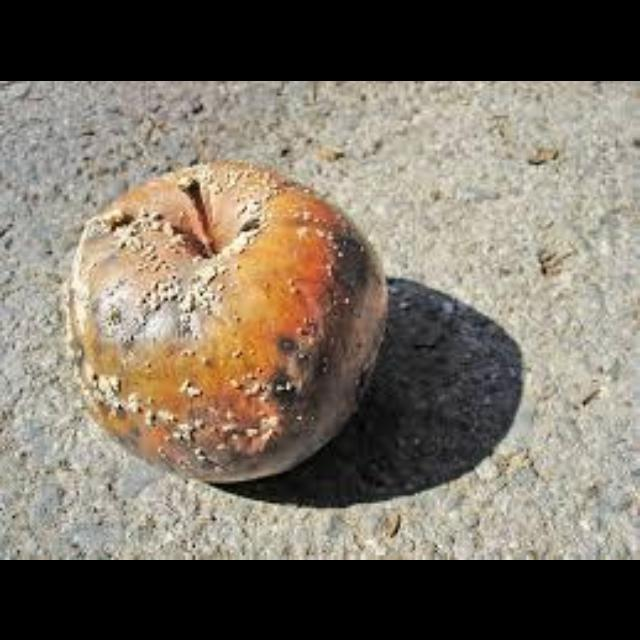apple: (67, 159, 388, 480)
rotten: (69, 162, 385, 480)
